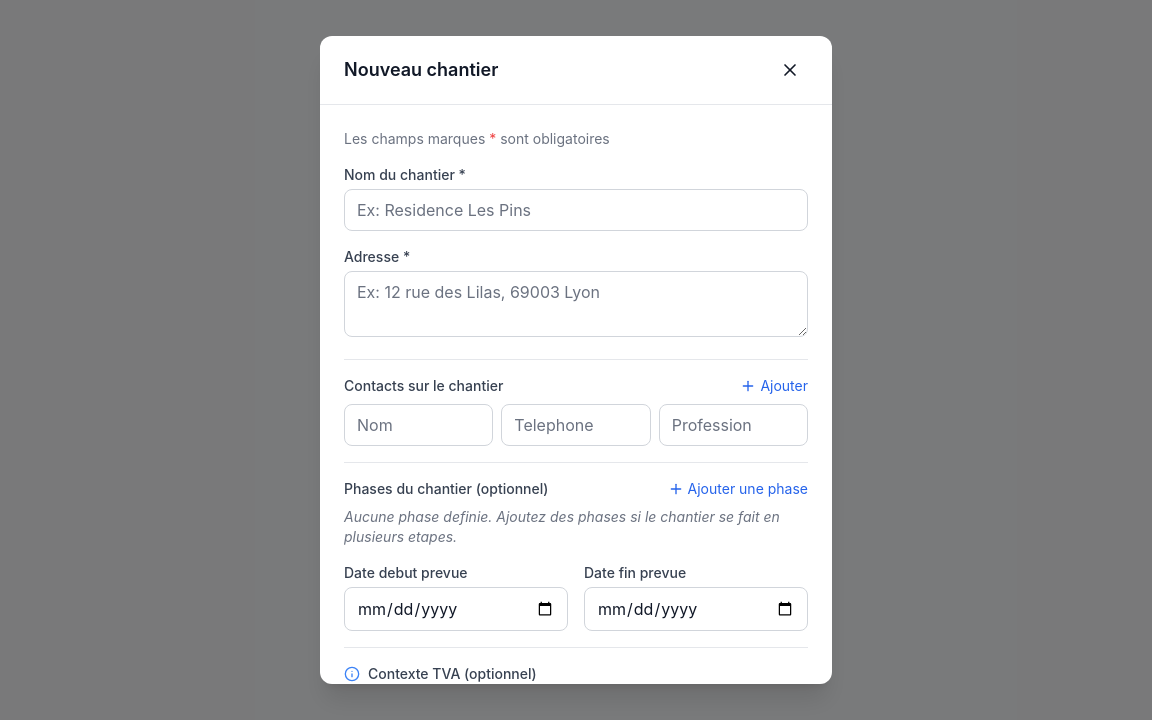
Test: CreateChantierModal › Gestion des phases › permet de supprimer une phase
Click the button "Ajouter une phase" at {"x": 738, "y": 489}, box [668,479,808,499]
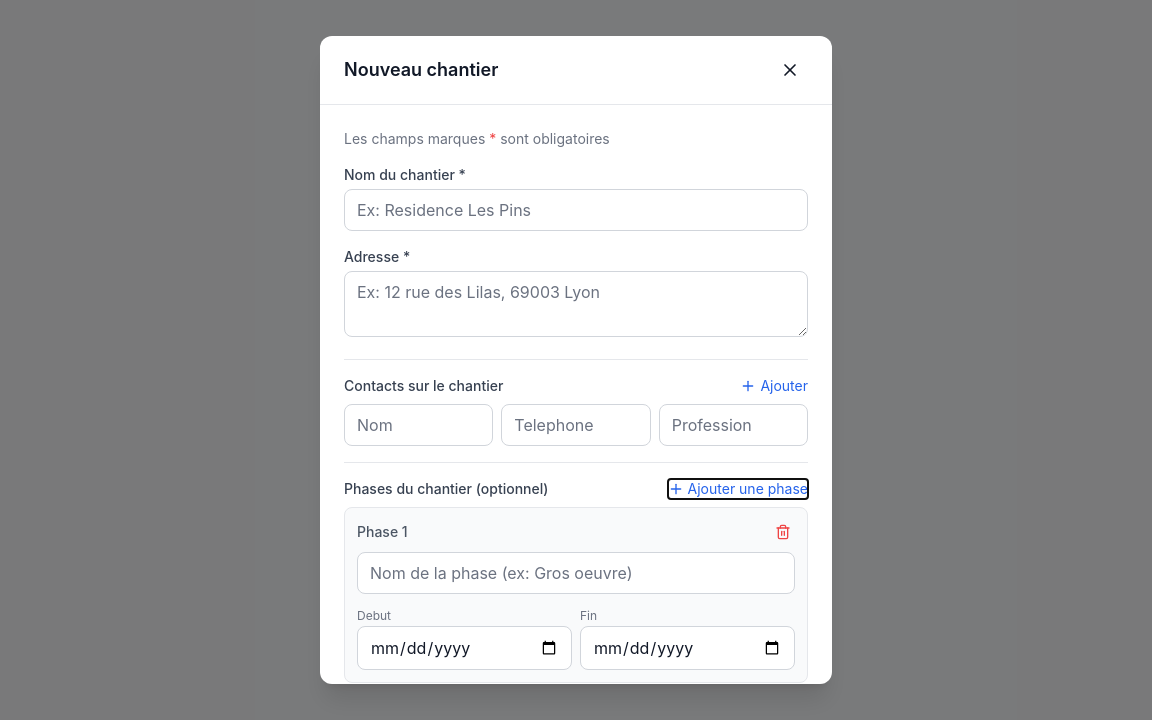
Expected: the text "Phase 1" is shown, [357,522,408,542]
Click the button with class "lucide-trash-2" at {"x": 783, "y": 532}, box [771,520,795,544]
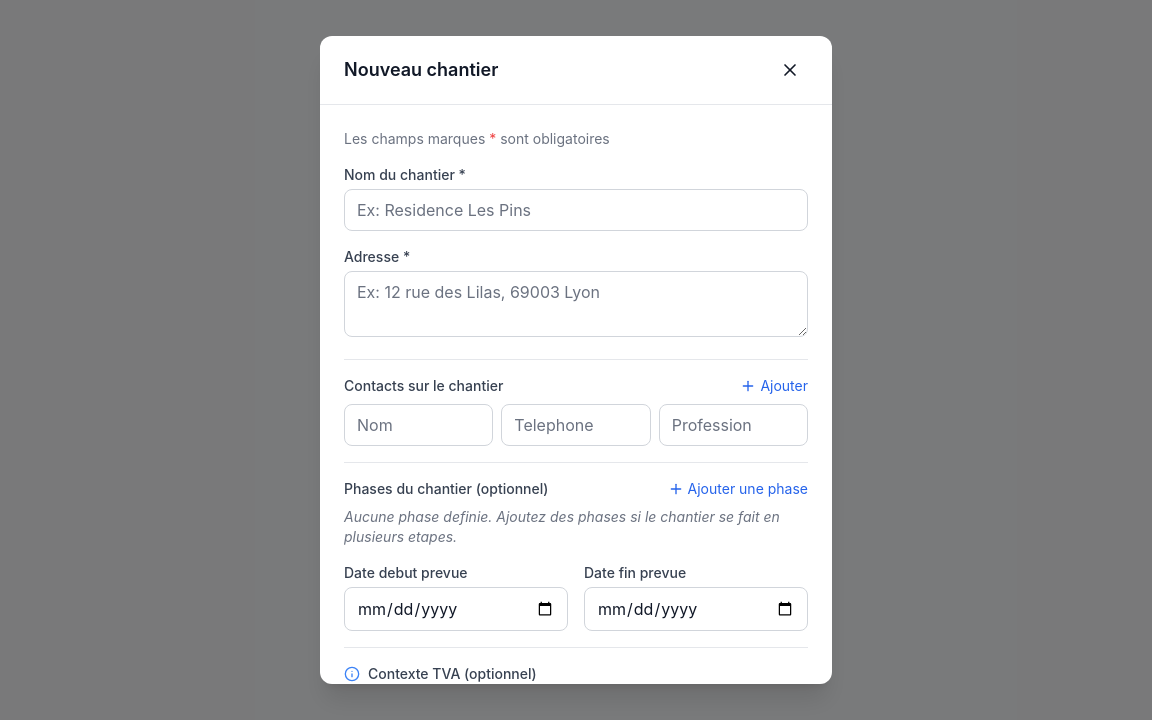
Expected: the text "Phase 1" is gone
